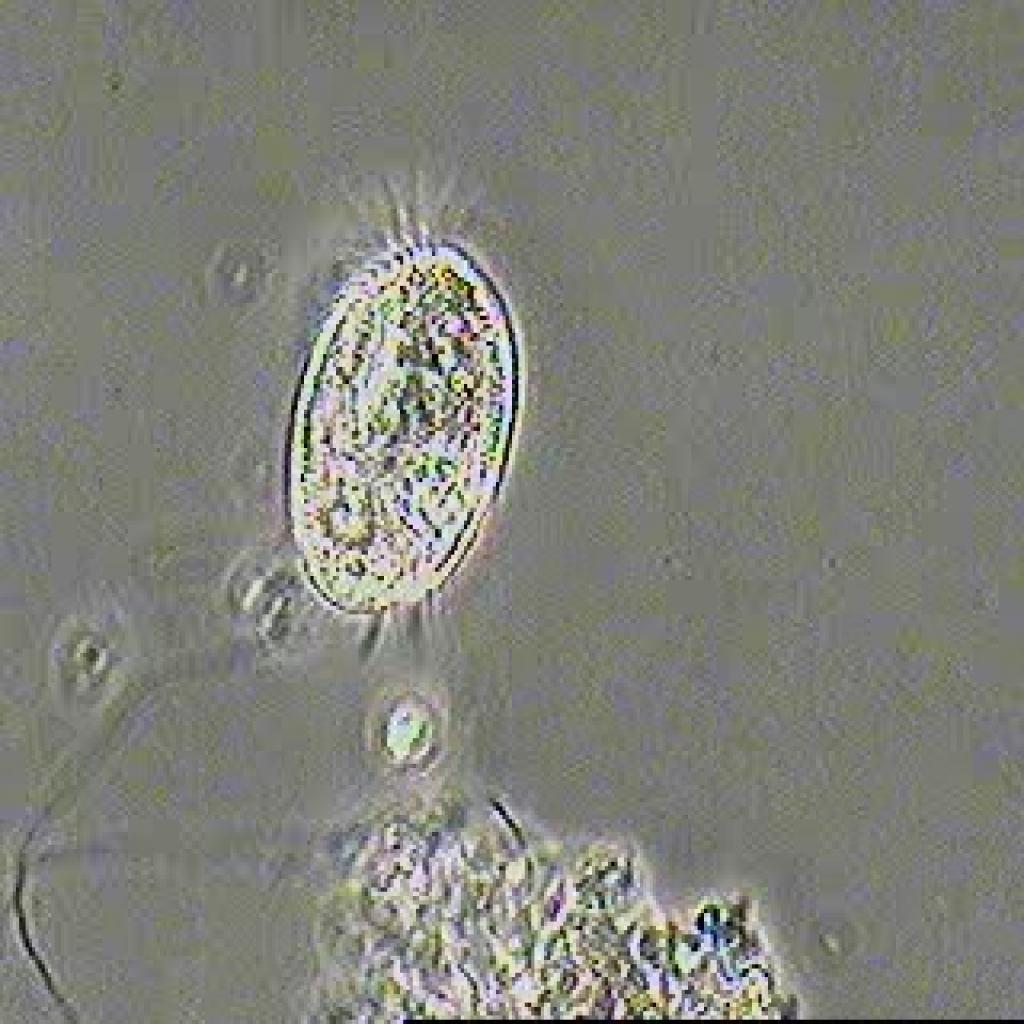Chilodonella: (219, 141, 549, 678)
